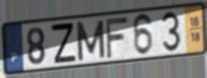3: (160, 9, 183, 55)
6: (131, 11, 156, 58)
8: (25, 27, 47, 66)
F: (104, 15, 130, 60)
M: (74, 18, 107, 63)
Z: (49, 21, 78, 65)
